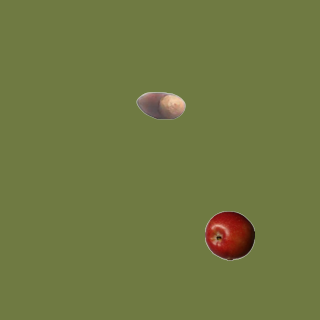Apple Braeburn: (204, 210, 254, 260)
Hazelnut: (135, 80, 185, 130)
